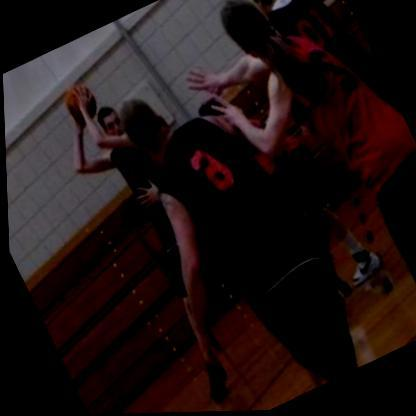basketball: (53, 74, 106, 133)
